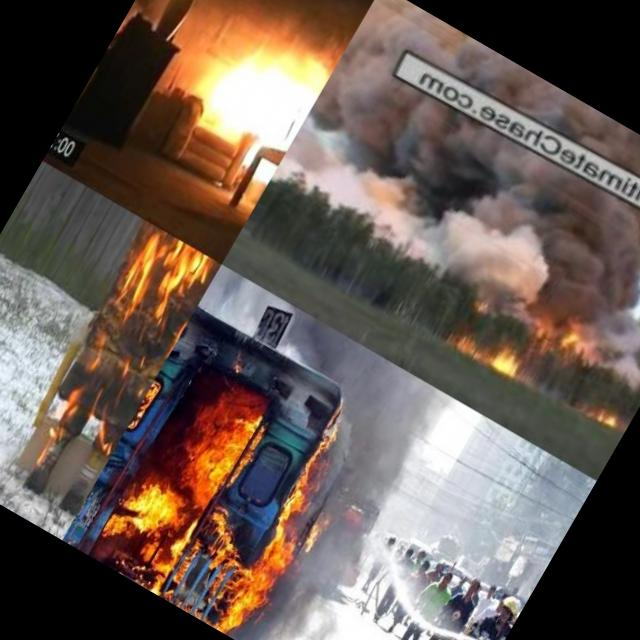fire: (22, 213, 221, 458), (181, 414, 362, 640), (182, 21, 334, 184), (92, 465, 214, 597), (165, 378, 281, 510), (479, 331, 542, 391), (542, 306, 596, 362), (446, 323, 496, 368), (583, 401, 630, 436), (474, 294, 504, 322)
smoke: (277, 109, 581, 324), (197, 264, 460, 446), (239, 409, 437, 640), (578, 266, 640, 388)
